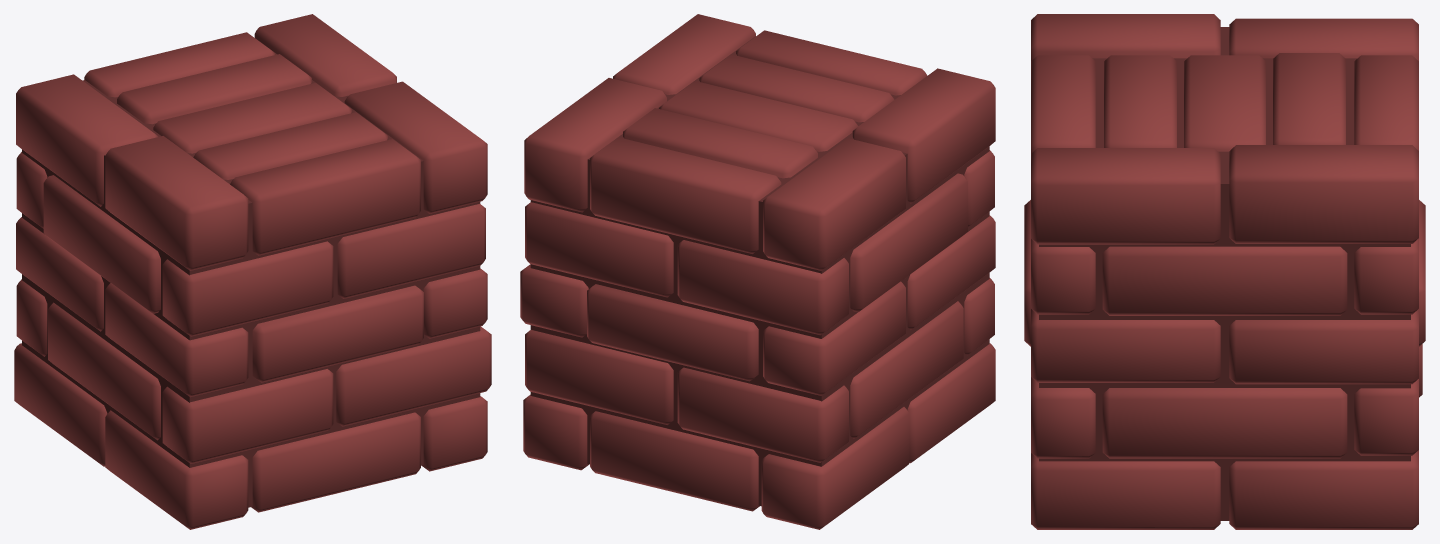
The model's file is Cube_Bricks.glb.
The picture shows the model from 3 angles, left to right: view 1: azimuth 30°, elevation 25°; view 2: azimuth 150°, elevation 25°; view 3: azimuth 270°, elevation 25°; orthographic projection. The views are drawn at different scales.
Visible parts, largest first — view 1: Cube_Bricks; view 2: Cube_Bricks; view 3: Cube_Bricks.
Part boxes in pixels (<box>): Cube_Bricks: <box>14,14,491,529</box>; Cube_Bricks: <box>520,14,995,529</box>; Cube_Bricks: <box>1024,14,1425,529</box>.
Size of the model in its own units: 2.04 by 2.03 by 2.06.
